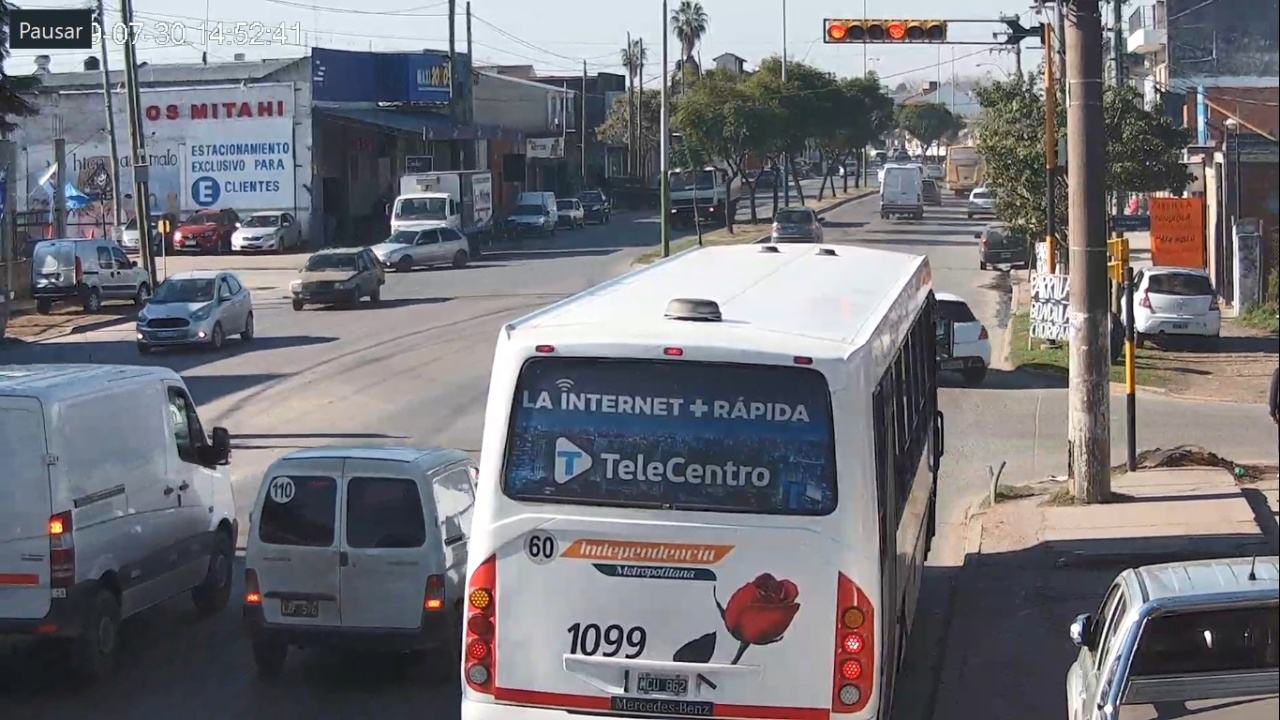bus: (462, 245, 931, 720)
car: (3, 364, 241, 677)
front car: (137, 270, 254, 353)
traffic light: (827, 18, 947, 43)
